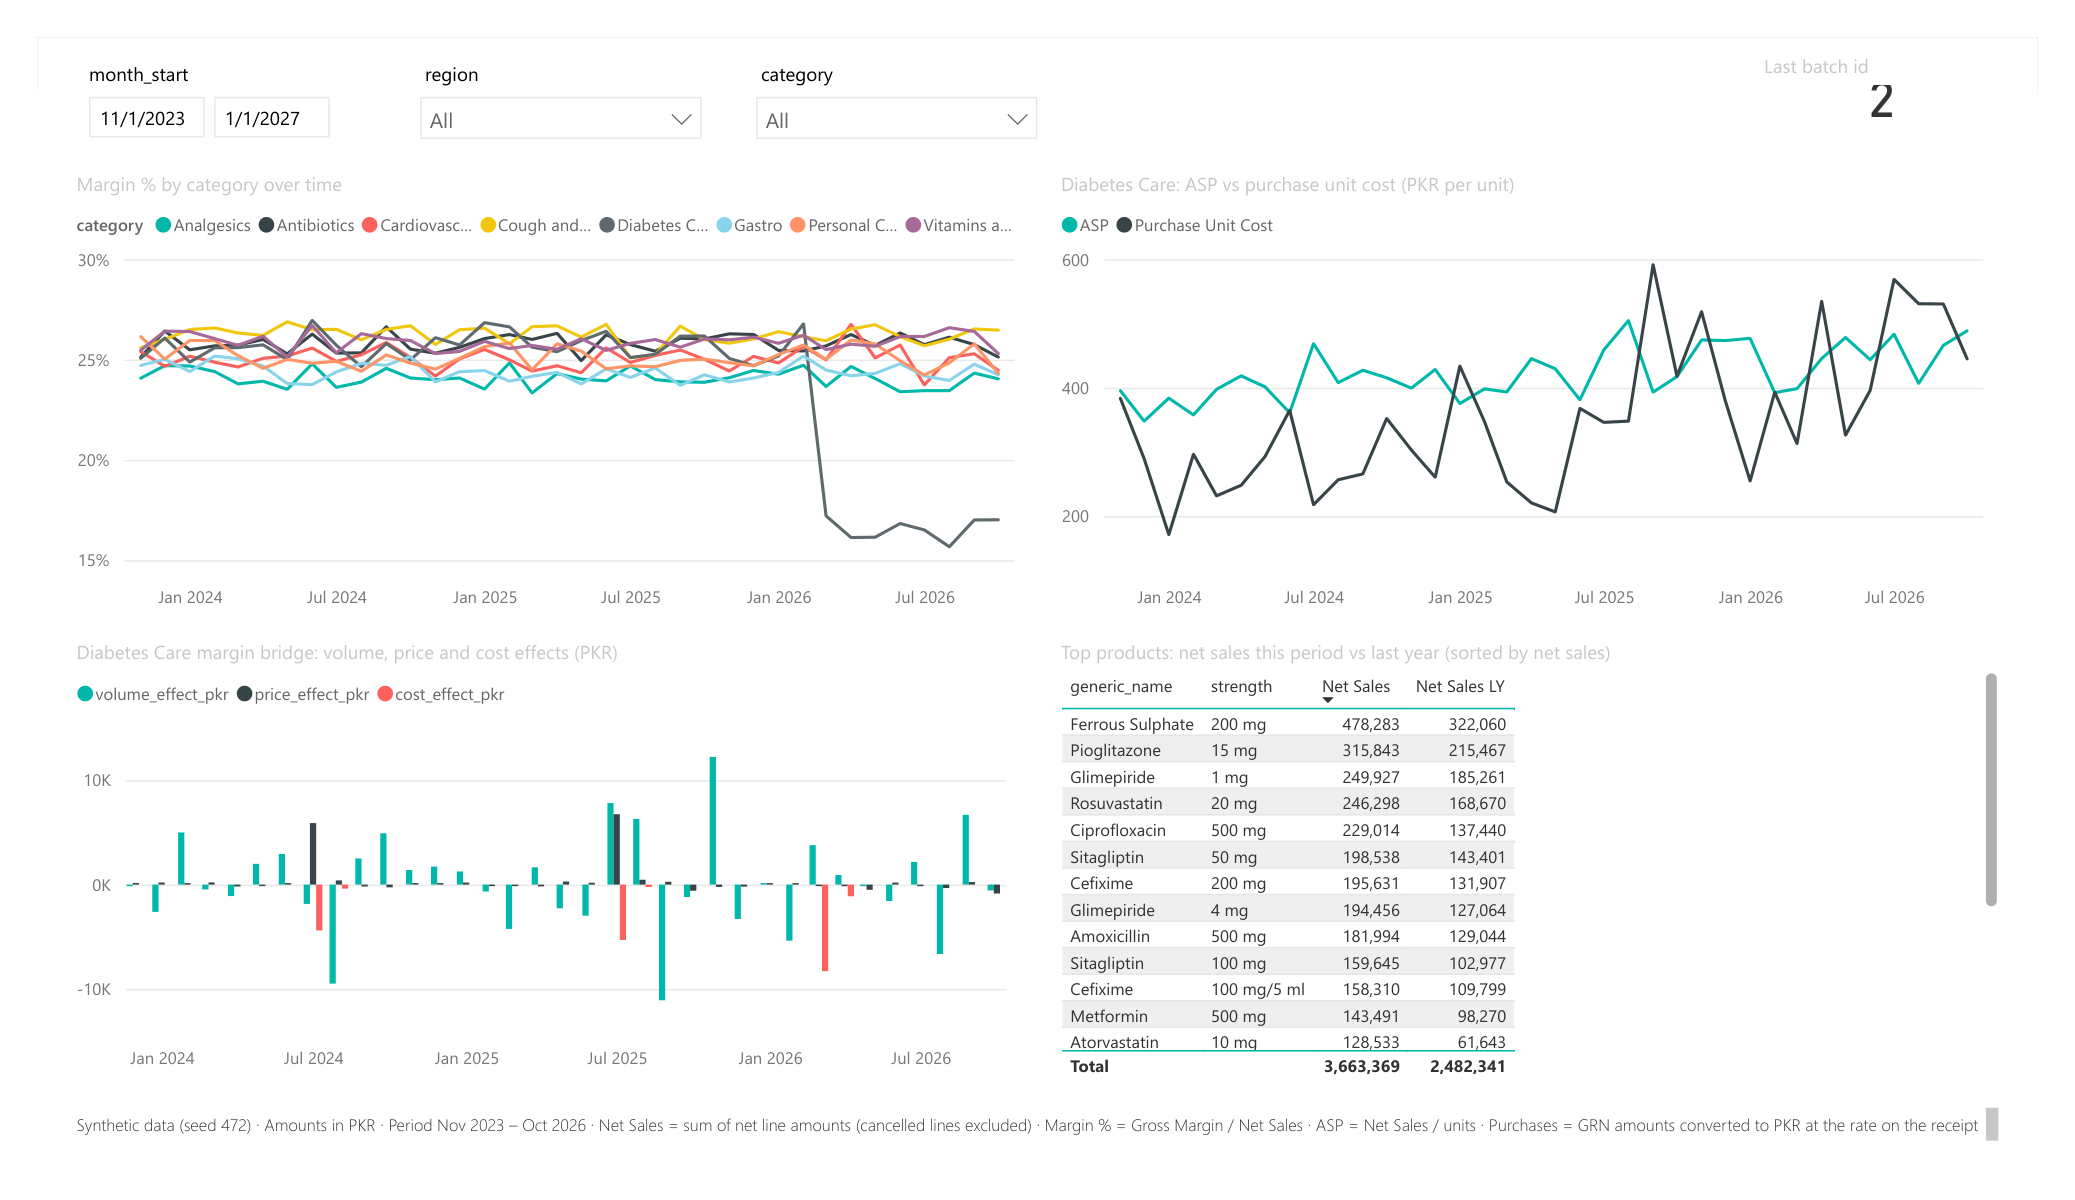

What the dashboard file says about the page in this screenshot:
{"tool":"powerbi","page":{"name":"Diagnostic Analysis","canvas":[1280,720],"ordinal":1},"visuals":[{"type":"slicer","fields":{"Values":["Date.month_start"]},"box":[20,10,200,60],"z":0},{"type":"slicer","fields":{"Values":["Branch.region"]},"box":[235,10,200,60],"z":0},{"type":"slicer","fields":{"Values":["Product.category"]},"box":[450,10,200,60],"z":0},{"type":"card","title":"Last batch id","fields":{"Values":["Sales.Last Batch"]},"box":[1100,10,160,60],"z":0},{"type":"lineChart","title":"Margin % by category over time","fields":{"Category":["Date.month_start"],"Series":["Product.category"],"Y":["Sales.Margin %"]},"box":[20,85,620,290],"z":0},{"type":"lineChart","title":"Diabetes Care: ASP vs purchase unit cost (PKR per unit)","fields":{"Category":["Date.month_start"],"Y":["Sales.ASP","Purchases.Purchase Unit Cost"]},"box":[650,85,610,290],"z":0},{"type":"clusteredColumnChart","title":"Diabetes Care margin bridge: volume, price and cost effects (PKR)","fields":{"Category":["Margin Bridge.month_start"],"Y":["Sum(Margin Bridge.volume_effect_pkr)","Sum(Margin Bridge.price_effect_pkr)","Sum(Margin Bridge.cost_effect_pkr)"]},"box":[20,385,620,285],"z":0},{"type":"tableEx","title":"Top products: net sales this period vs last year (sorted by net sales)","fields":{"Values":["Product.generic_name","Product.strength","Sales.Net Sales","Sales.Net Sales LY"]},"box":[650,385,610,285],"z":0},{"type":"textbox","box":[20,680,1240,34],"z":0}]}

Visuals, with their boxes on the page's 1280x720 design canvas (x1, y1, x2, y2). These are canvas units, not pixel positions in the 2075x1200 screenshot, which may show the page scaled, cropped or inside an application window:
slicer - Date.month_start: {"x1": 20, "y1": 10, "x2": 220, "y2": 70}
slicer - Branch.region: {"x1": 235, "y1": 10, "x2": 435, "y2": 70}
slicer - Product.category: {"x1": 450, "y1": 10, "x2": 650, "y2": 70}
"Last batch id" card: {"x1": 1100, "y1": 10, "x2": 1260, "y2": 70}
"Margin % by category over time" lineChart: {"x1": 20, "y1": 85, "x2": 640, "y2": 375}
"Diabetes Care: ASP vs purchase unit cost (PKR per unit)" lineChart: {"x1": 650, "y1": 85, "x2": 1260, "y2": 375}
"Diabetes Care margin bridge: volume, price and cost effects (PKR)" clusteredColumnChart: {"x1": 20, "y1": 385, "x2": 640, "y2": 670}
"Top products: net sales this period vs last year (sorted by net sales)" tableEx: {"x1": 650, "y1": 385, "x2": 1260, "y2": 670}
textbox: {"x1": 20, "y1": 680, "x2": 1260, "y2": 714}
